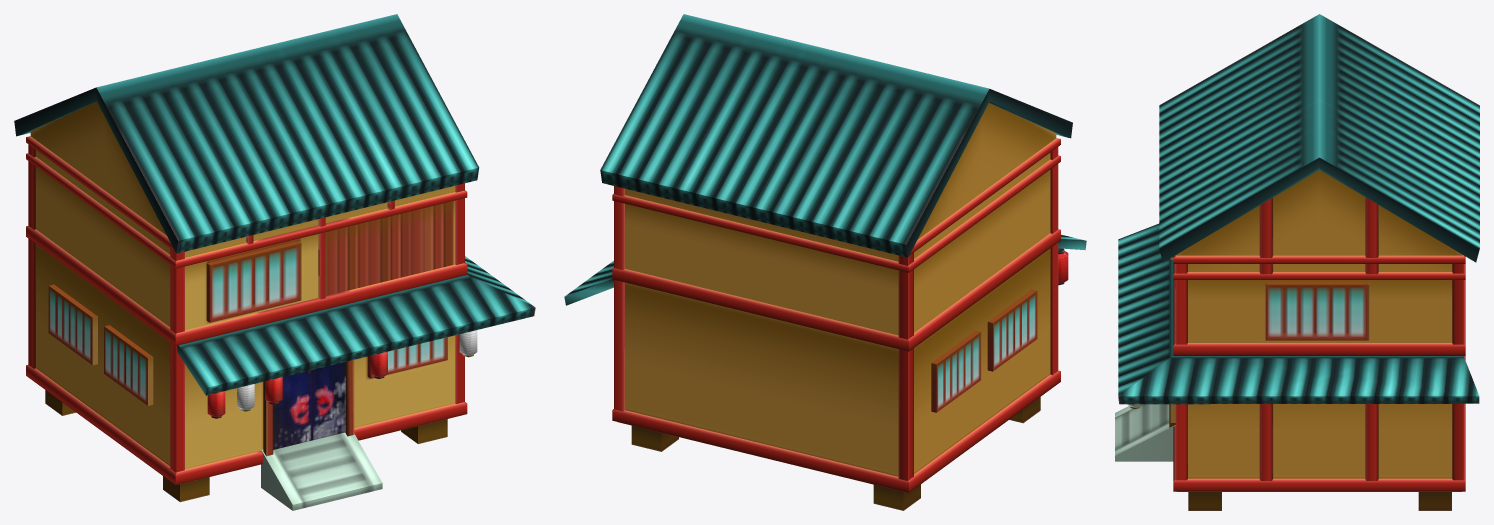
The model's file is house_02.FBX.
3 views of the same model, side by side, from view 1: azimuth 30°, elevation 25°; view 2: azimuth 150°, elevation 25°; view 3: azimuth 270°, elevation 25° (orthographic). The views are drawn at different scales.
Parts seen in each view (by area): view 1: house_02; view 2: house_02; view 3: house_02.
Boxes of the visible parts, <box> form: house_02: <box>14,14,535,510</box>; house_02: <box>564,14,1086,510</box>; house_02: <box>1115,14,1479,510</box>.
Bounding box in the file's own units: 95725 × 100534 × 91940.
